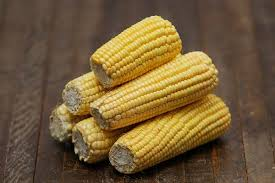milho: (54, 19, 230, 155)
